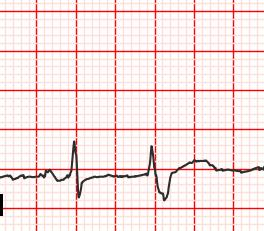Poor R Progression: (67, 137, 85, 180), (143, 142, 160, 179)
ST Depression: (143, 171, 181, 203), (60, 171, 92, 201)
